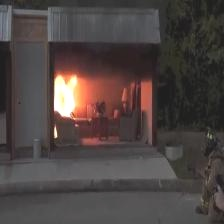fire: (51, 65, 90, 115)
